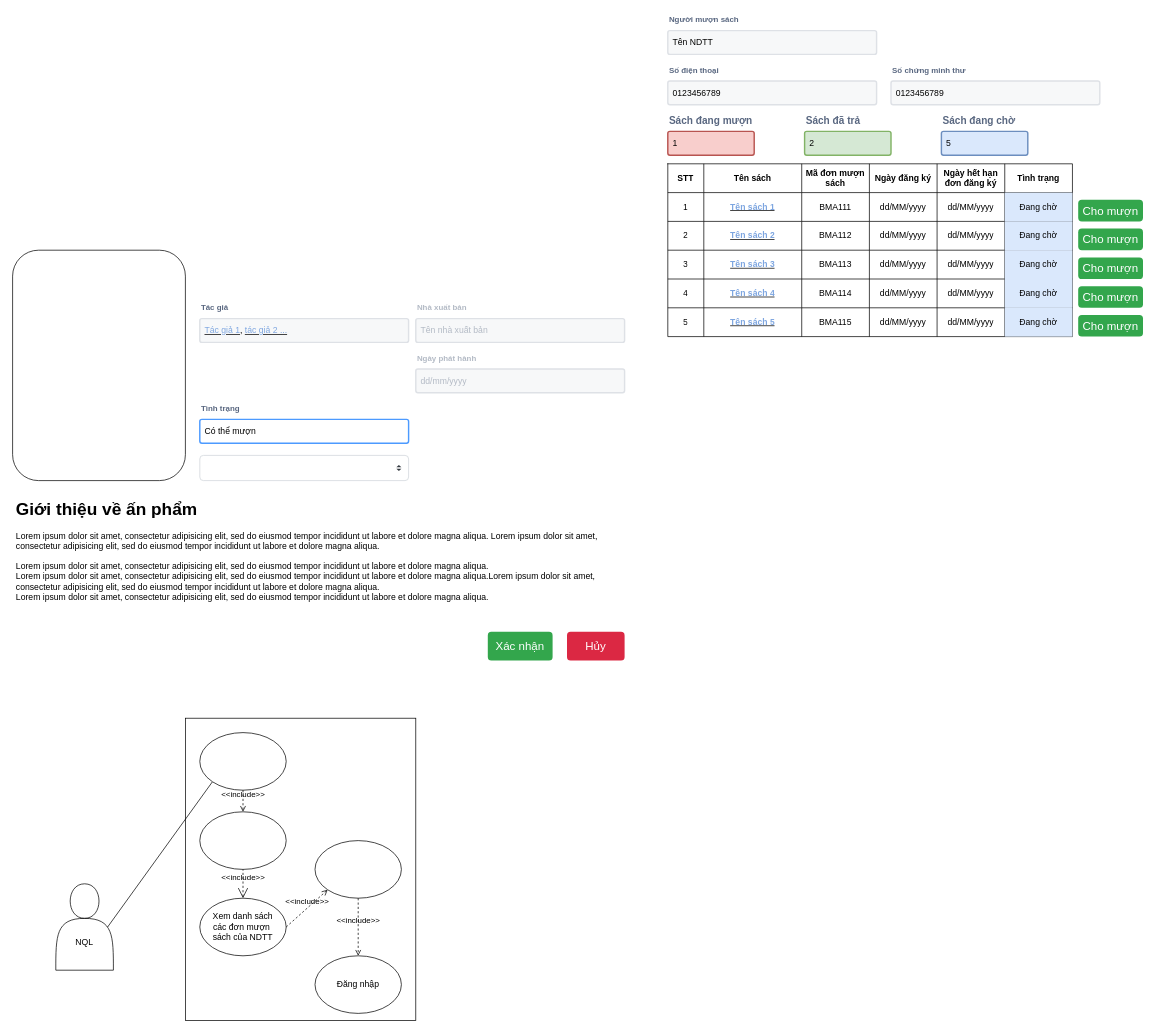
This 1156x1033 diagram has some shape labels left out. Here are the shapes that lost their labels. From the top down, the centre of each, then its label:
At (98,365): "Ảnh bìa sách".
At (304,468): "Hạn trả sách".
At (242,761): "Xác nhận cho mượn sách".
At (242,840): "Xem danh sách các đơn mượn sách".
At (357,869): "Tìm người dùng có nhu cầu mượn sách".
